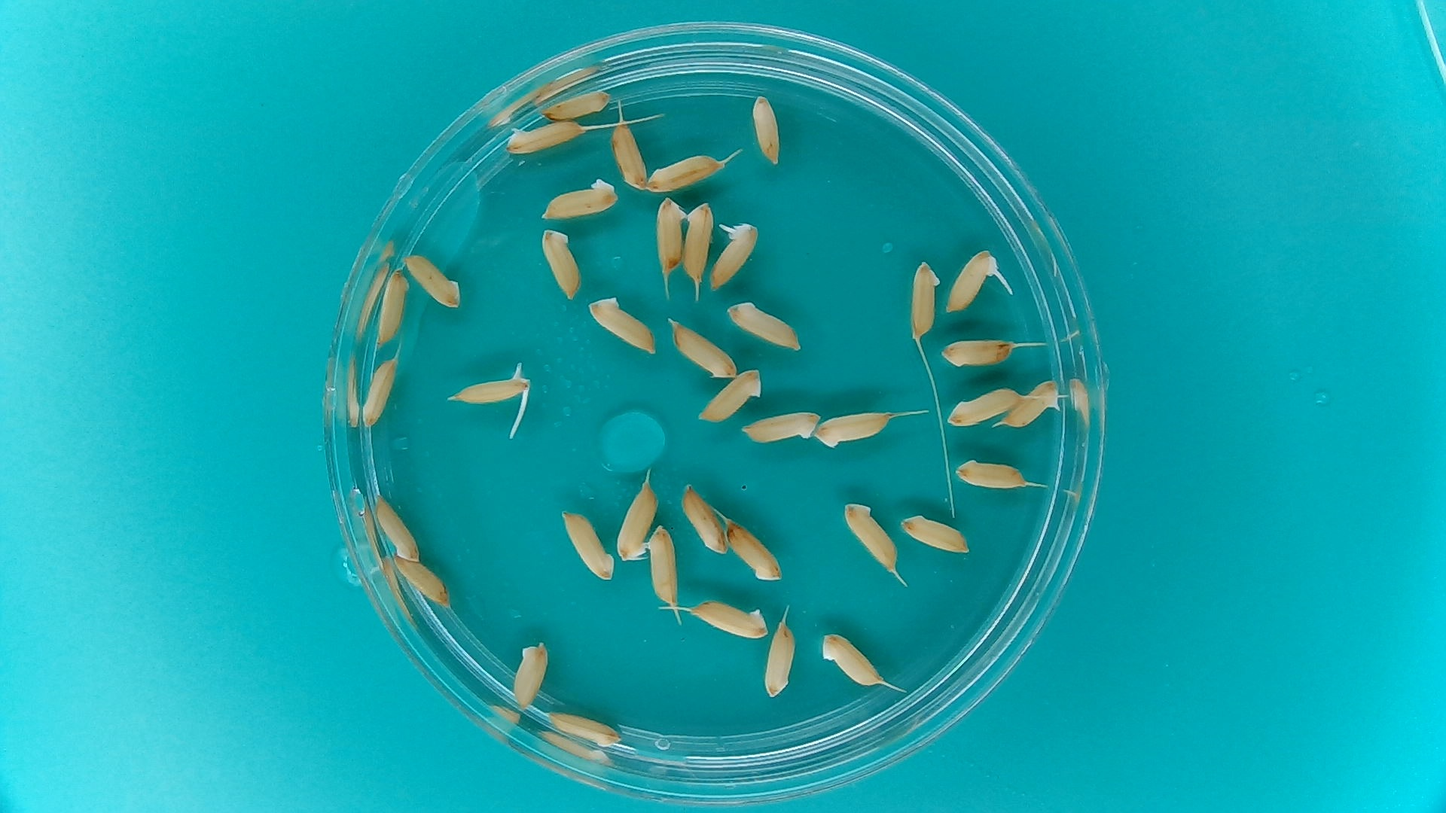no: (559, 506, 618, 586), (840, 498, 901, 575), (816, 630, 889, 693), (587, 292, 660, 355), (669, 318, 739, 381), (537, 174, 625, 222), (727, 298, 805, 350), (697, 368, 766, 425), (402, 249, 465, 311), (725, 518, 784, 583), (680, 481, 729, 558), (371, 490, 423, 562), (538, 224, 585, 303), (645, 150, 731, 193), (390, 551, 452, 609), (686, 598, 770, 640), (615, 479, 656, 565), (896, 510, 972, 555), (1003, 377, 1066, 431), (499, 118, 588, 156), (371, 264, 411, 347), (746, 87, 786, 170), (357, 355, 401, 429), (942, 386, 1020, 427), (544, 708, 623, 748), (816, 408, 897, 447), (906, 257, 943, 342), (679, 200, 715, 285), (608, 117, 649, 191), (645, 525, 681, 607), (760, 623, 796, 703), (950, 454, 1029, 490), (738, 409, 821, 443), (654, 194, 688, 276), (511, 637, 548, 711), (536, 88, 614, 122), (936, 337, 1015, 369)
yes: (946, 251, 1001, 315), (711, 222, 761, 291), (455, 373, 529, 410)
